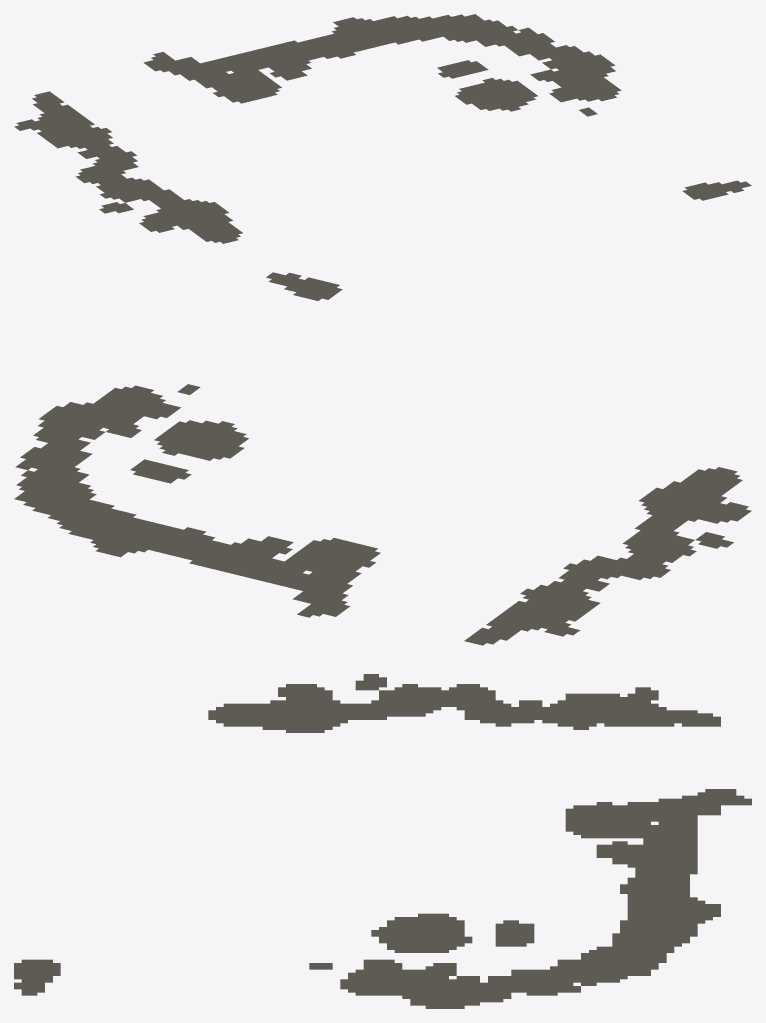
Rendered from Isl-bot1-NoBuildArea.fbx.
The picture shows the model from 3 angles, top to bottom: view 1: azimuth 30°, elevation 25°; view 2: azimuth 150°, elevation 25°; view 3: azimuth 270°, elevation 25°; orthographic projection. The views are drawn at different scales.
Parts seen in each view (by area): view 1: Isl-bot1-NoBuildArea; view 2: Isl-bot1-NoBuildArea; view 3: Isl-bot1-NoBuildArea.
Part boxes in pixels (x1,y1,x2,y2): Isl-bot1-NoBuildArea: [14, 14, 751, 243]; Isl-bot1-NoBuildArea: [14, 272, 751, 645]; Isl-bot1-NoBuildArea: [14, 674, 751, 1008].
Bounding box in the file's own units: 102 × 0 × 95.
